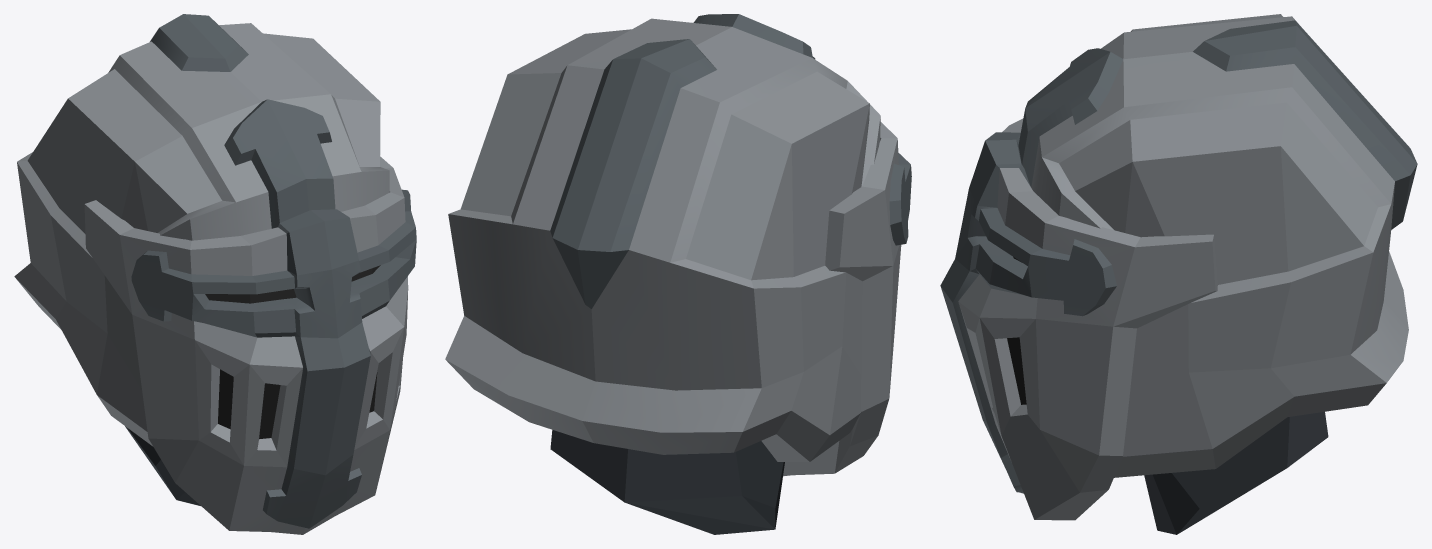
File: Chr_Head_No_Elements_Female_11_Static.fbx
3 renders of one model, left to right at view 1: azimuth 30°, elevation 25°; view 2: azimuth 150°, elevation 25°; view 3: azimuth 270°, elevation 25°, orthographic. The views are drawn at different scales.
Visible parts, largest first — view 1: Chr_Head_No_Elements_Female_11_Static; view 2: Chr_Head_No_Elements_Female_11_Static; view 3: Chr_Head_No_Elements_Female_11_Static.
Boxes of the visible parts, x1,y1,x2,y2 form: Chr_Head_No_Elements_Female_11_Static: (14,14,416,534); Chr_Head_No_Elements_Female_11_Static: (445,14,911,534); Chr_Head_No_Elements_Female_11_Static: (940,14,1417,534).
Bounding box in the file's own units: 0.2455 × 0.3886 × 0.3329.
